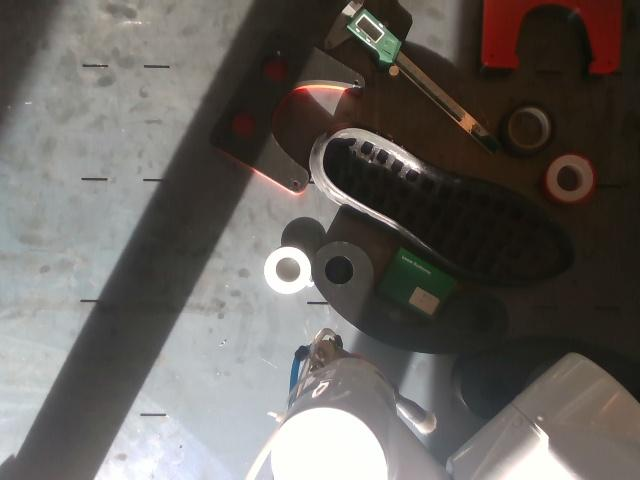shoes: (323, 128, 573, 279)
